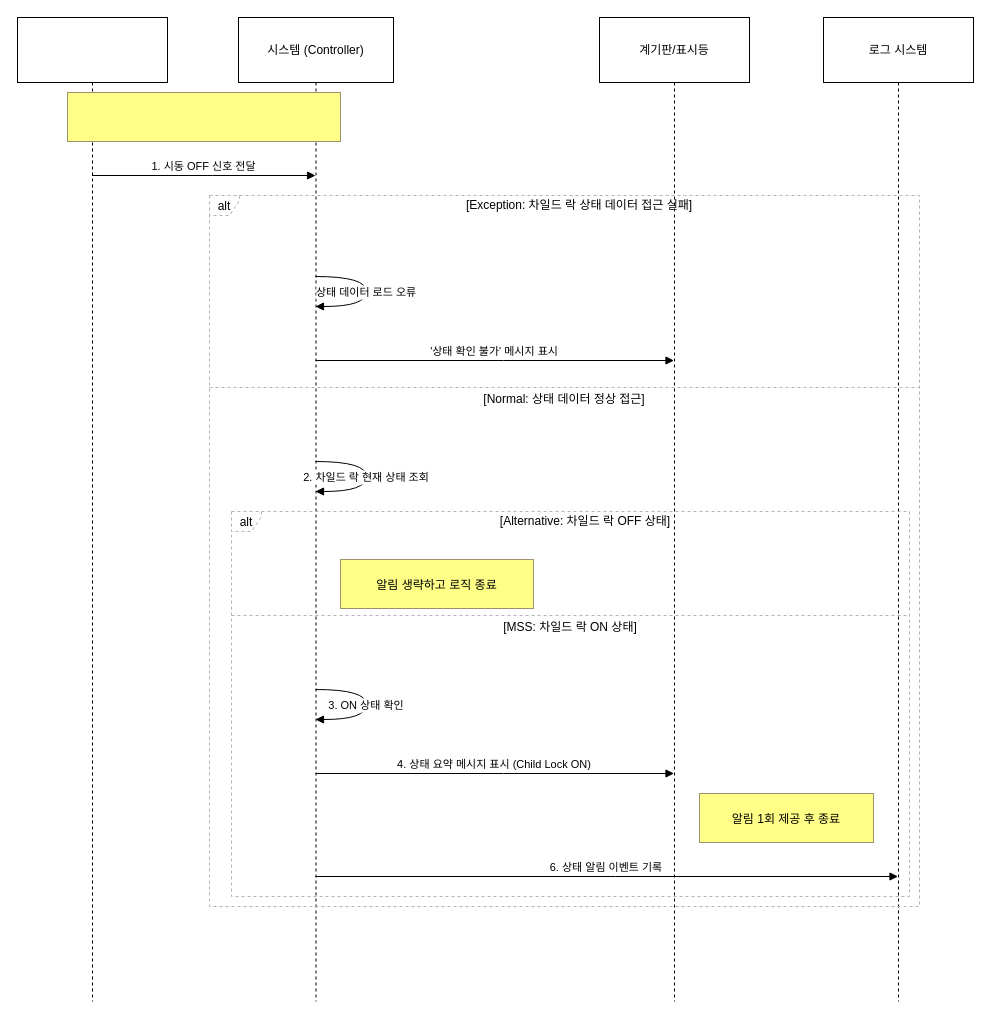
Image size: 991x1019. Some labels were removed from this diagram. Each missing label, with the box of its shape:
Trigger: 시동 OFF (Engine Off) 이벤트 발생: (66, 92, 340, 142)
시동 버튼/IG: (16, 16, 168, 1002)
